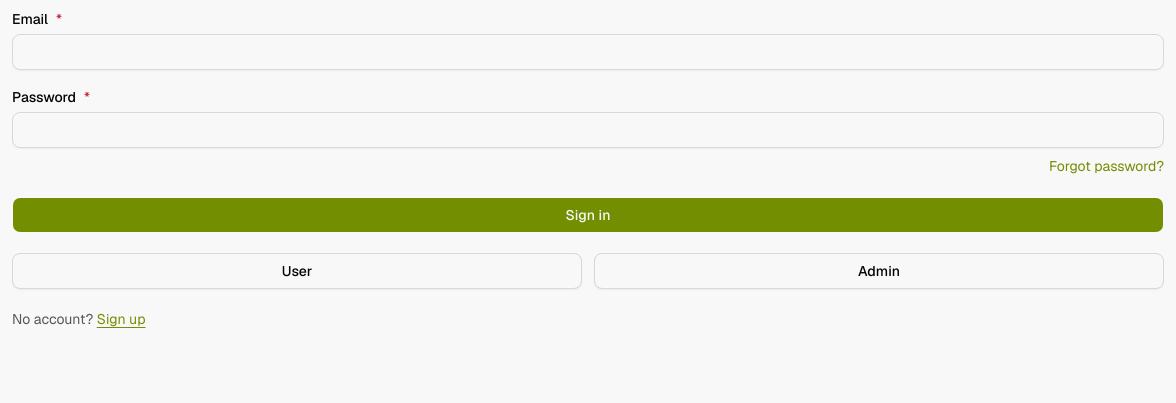
Test: LoginForm › validates the fields before submitting
Type "nope" into the field labelled "Email *".
click(588, 52); type("nope")  # box [12,34,1164,70]
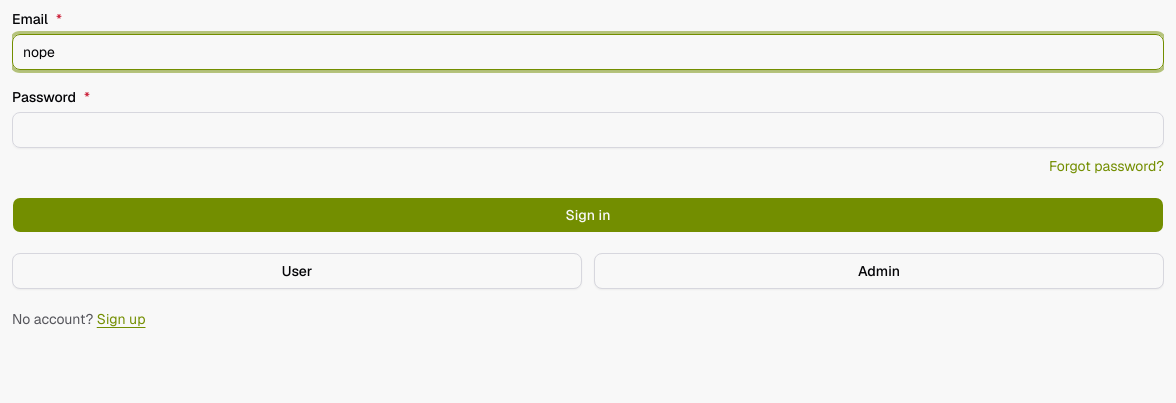
Click the button "Sign in".
click(588, 215)  # box [12,197,1164,233]
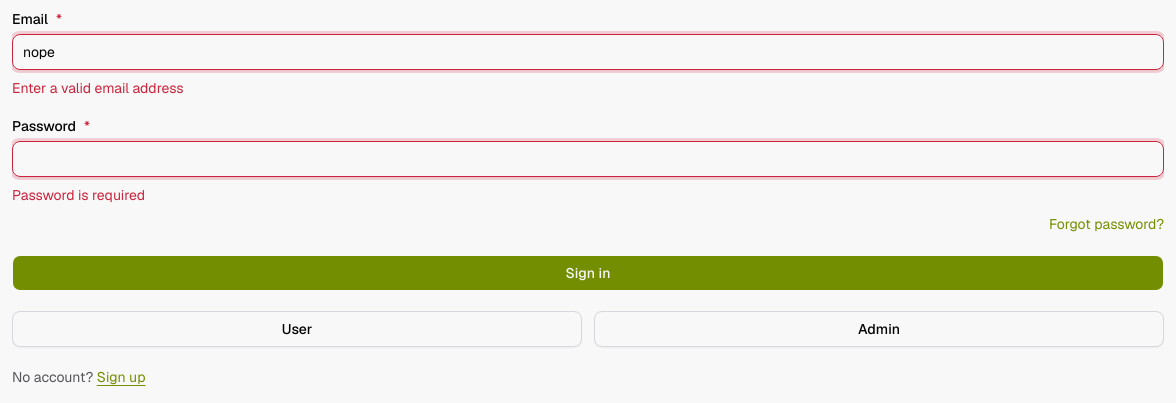
Result: the text "Enter a valid email address" is shown at [12,79,184,97]
Result: the text "Password is required" is shown at [12,186,145,204]
